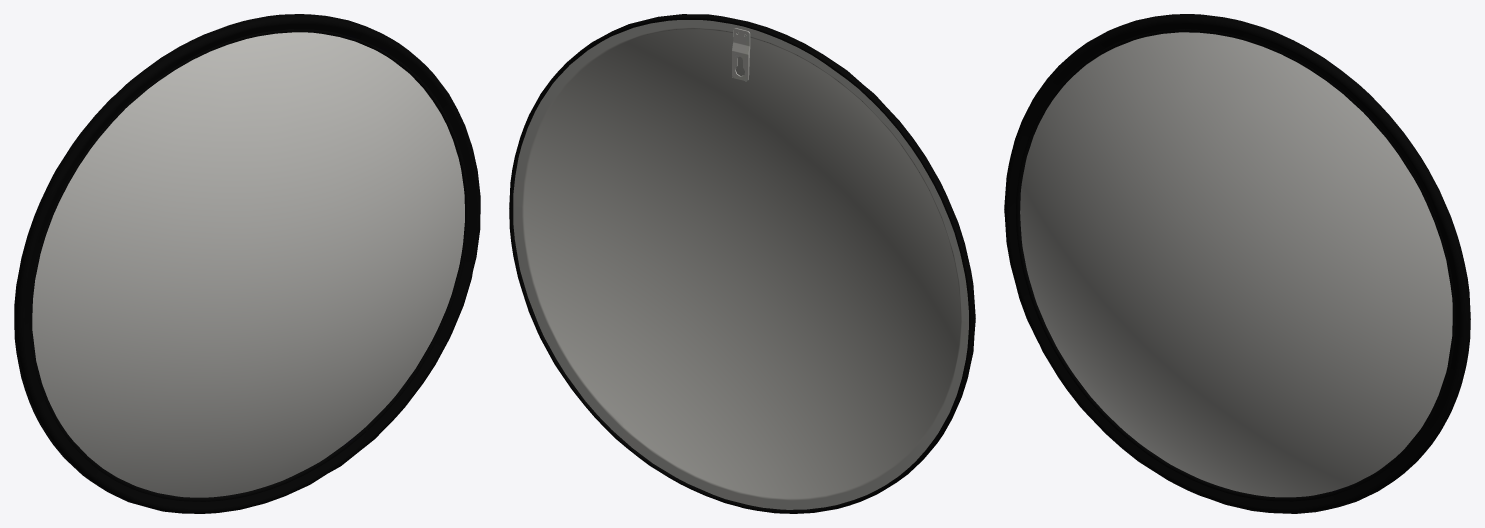
File: svartbjork_ozdobne_lustro_wypuke_80517122.glb
3 renders of one model, left to right at view 1: azimuth 30°, elevation 25°; view 2: azimuth 150°, elevation 25°; view 3: azimuth 330°, elevation 25°, orthographic.
Parts seen in each view (by area): view 1: svartbjork_ozdobne_lustro_wypuke_80517122; view 2: svartbjork_ozdobne_lustro_wypuke_80517122; view 3: svartbjork_ozdobne_lustro_wypuke_80517122.
Part boxes in pixels (x1,y1,x2,y2): svartbjork_ozdobne_lustro_wypuke_80517122: [14, 14, 480, 513]; svartbjork_ozdobne_lustro_wypuke_80517122: [509, 14, 975, 513]; svartbjork_ozdobne_lustro_wypuke_80517122: [1004, 14, 1470, 513].
Size of the model in its own units: 0.4132 by 0.4133 by 0.0523.
1 material, 1 textured.
